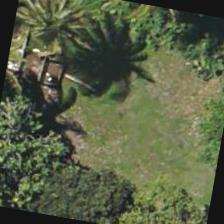Kelapa_Sawit: (15, 0, 118, 77)
